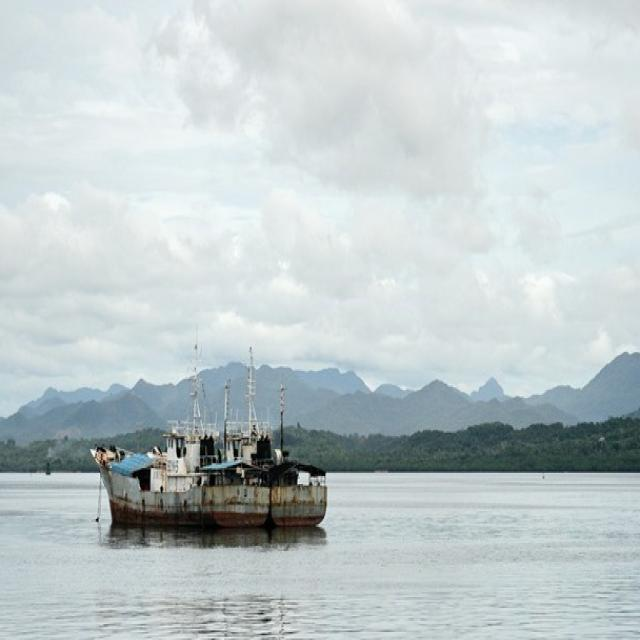fishing boat: (87, 339, 329, 524)
